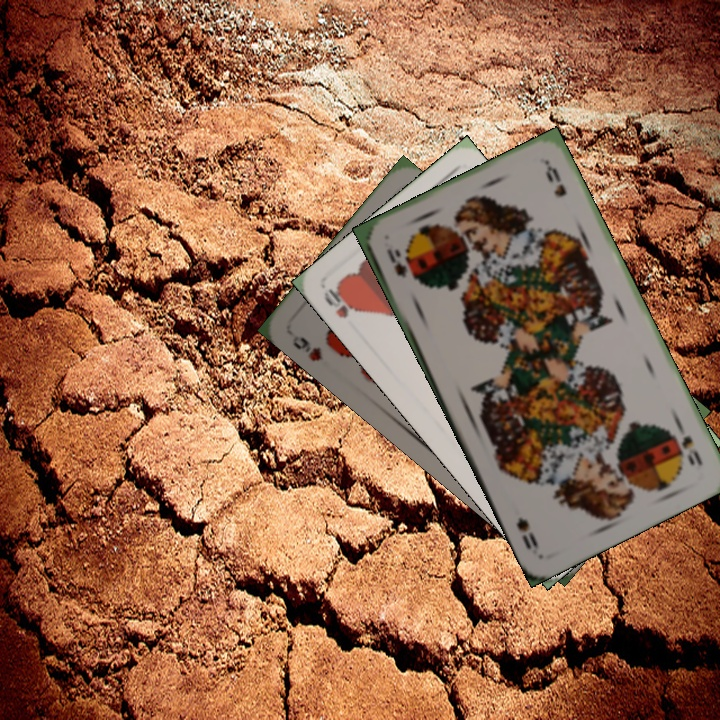H9: (288, 331, 327, 364)
HO: (319, 283, 359, 322)
SO: (671, 417, 706, 469), (382, 245, 410, 281)
